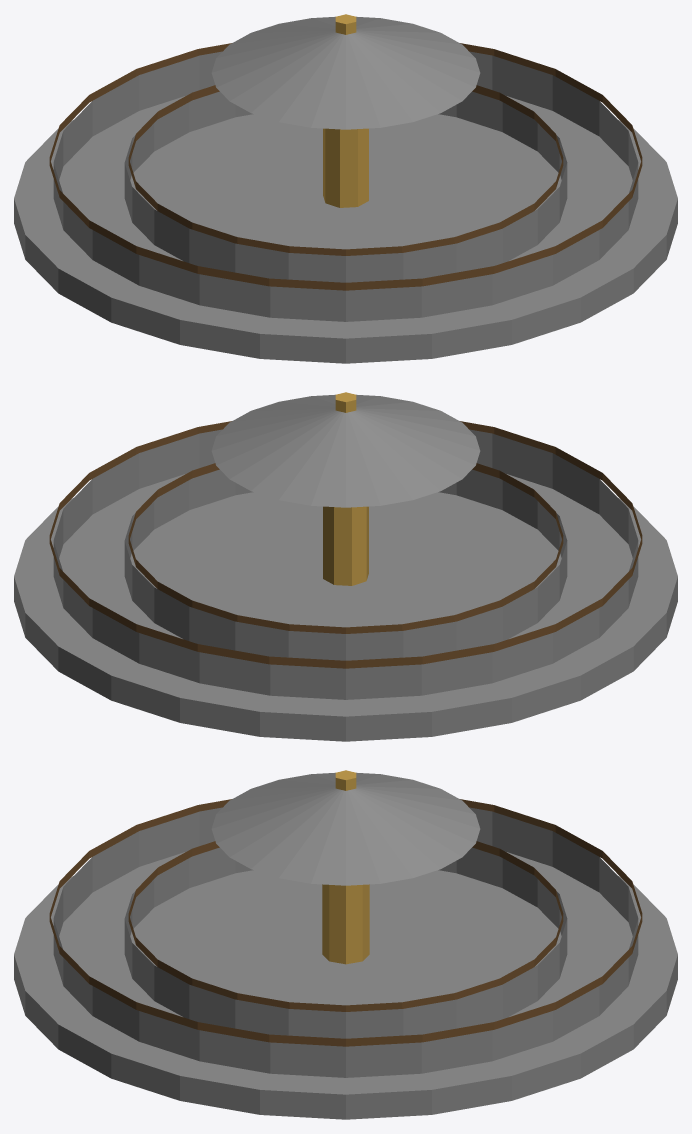
Rendered from twist.obj.
3 renders of one model, top to bottom at view 1: azimuth 30°, elevation 25°; view 2: azimuth 150°, elevation 25°; view 3: azimuth 270°, elevation 25°, orthographic.
Bounding box in the file's own units: 8.4 × 2.85 × 8.4.
